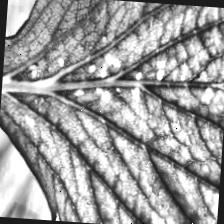Angular Leafspot: (17, 25, 224, 117)
